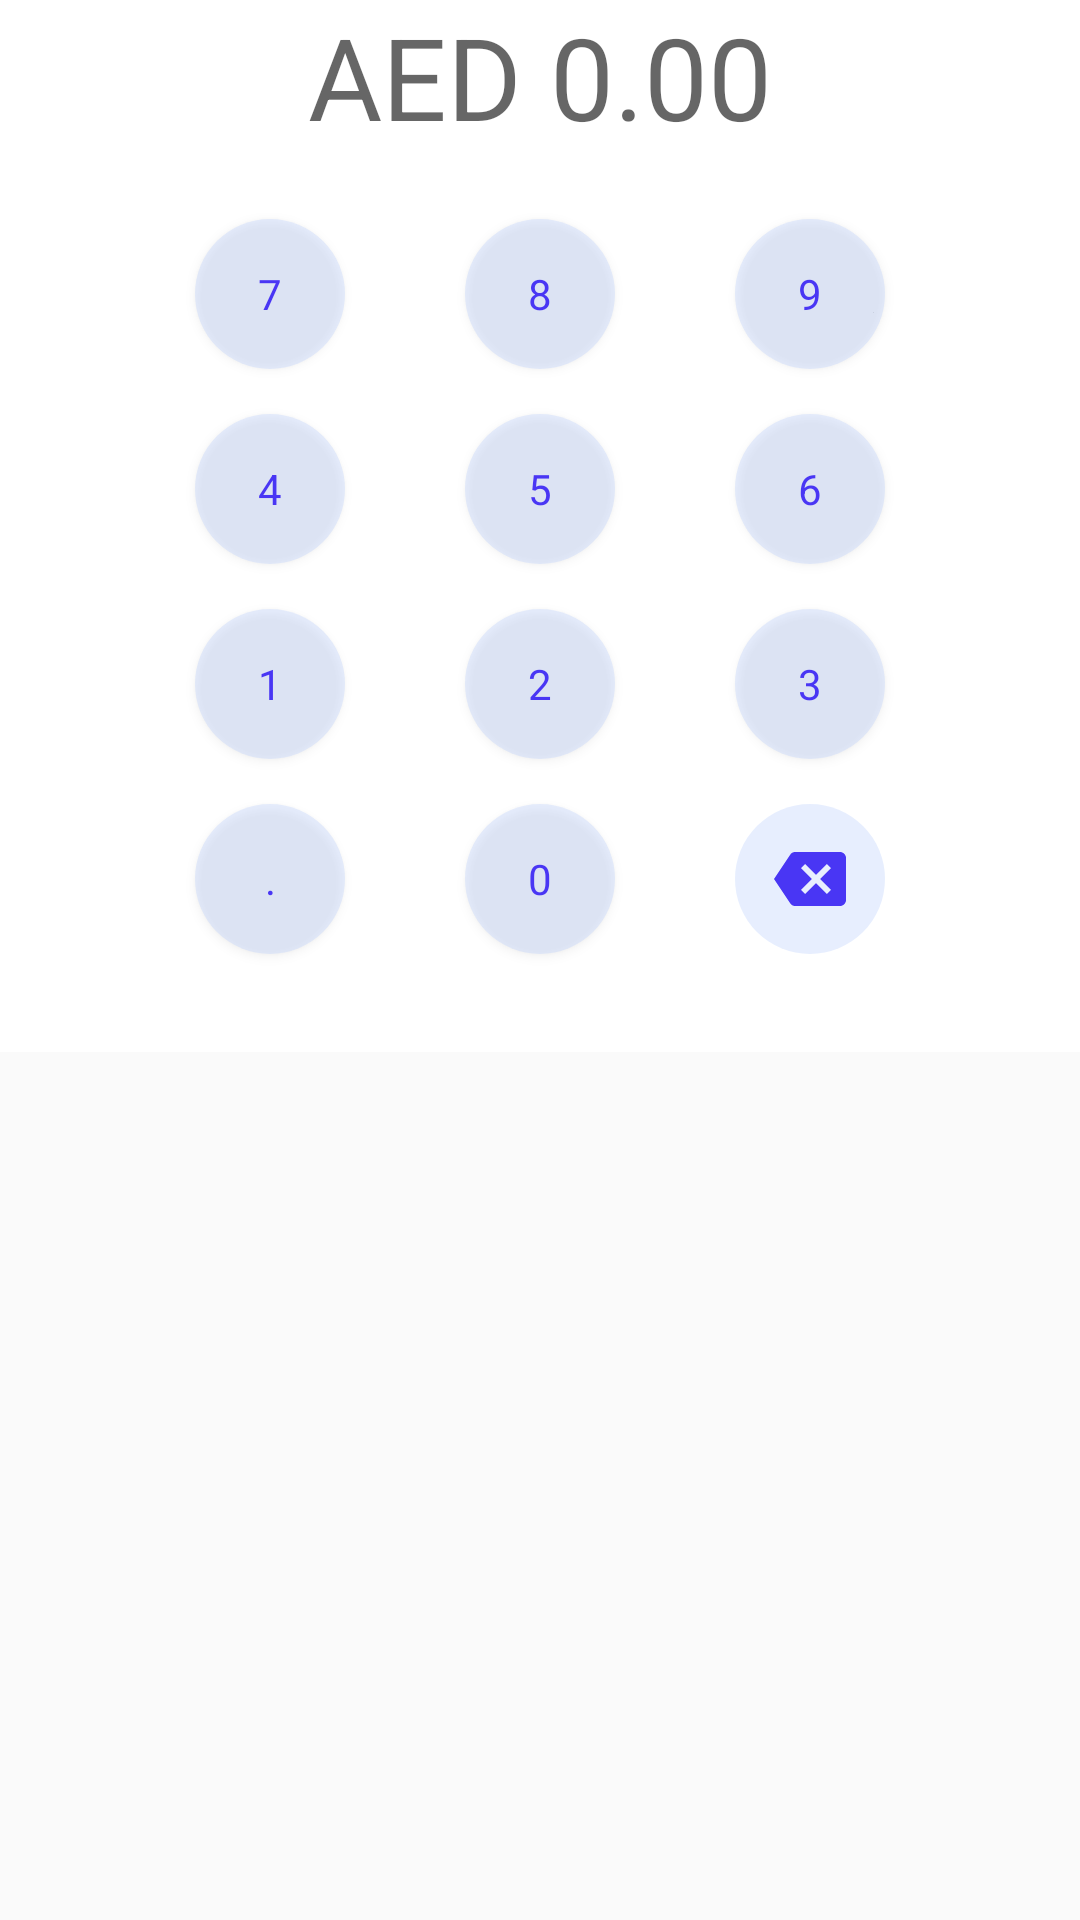

Where icons sit on this 1080*1920 app screen, as (x1, y1, x2, y2):
clear: (774, 852, 846, 906)
